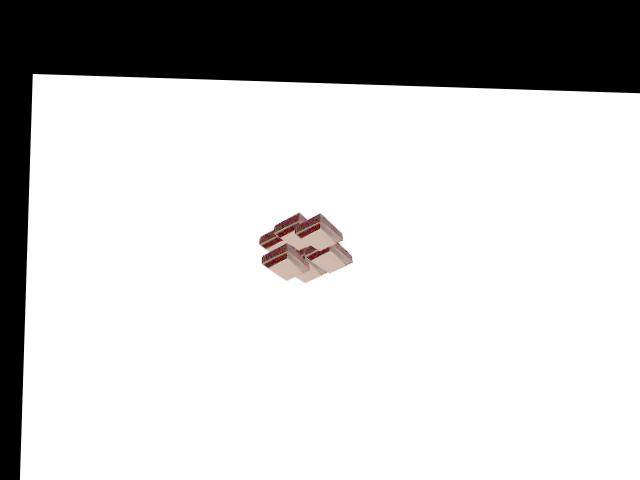chocolate: (255, 214, 352, 286)
